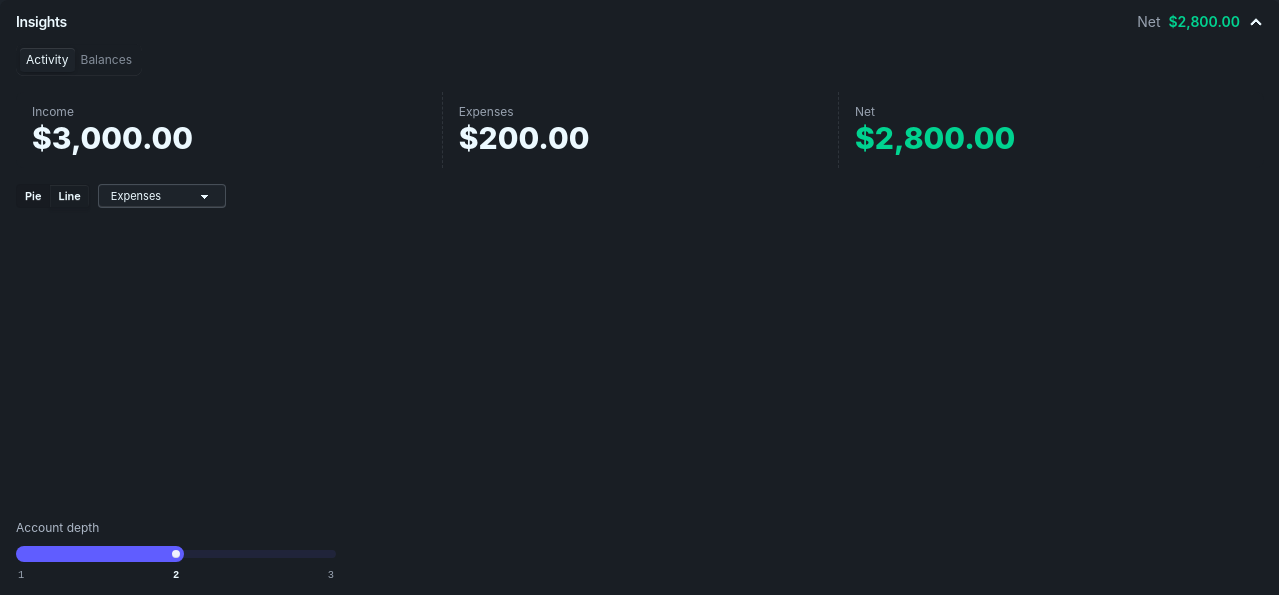
Scenario: COMPONENT InsightsPanel tabs › shows the active view's headline figure in the header, and keeps it when collapsed
This screenshot has width=1279, height=595.
Expected: the element with class "collapse-title" shows "Net", [1137, 13, 1161, 30]
Expected: the element with class "collapse-title" shows "$2,800.00", [1168, 13, 1240, 30]
Click the tab "Balances": (106, 60) [74, 48, 138, 72]
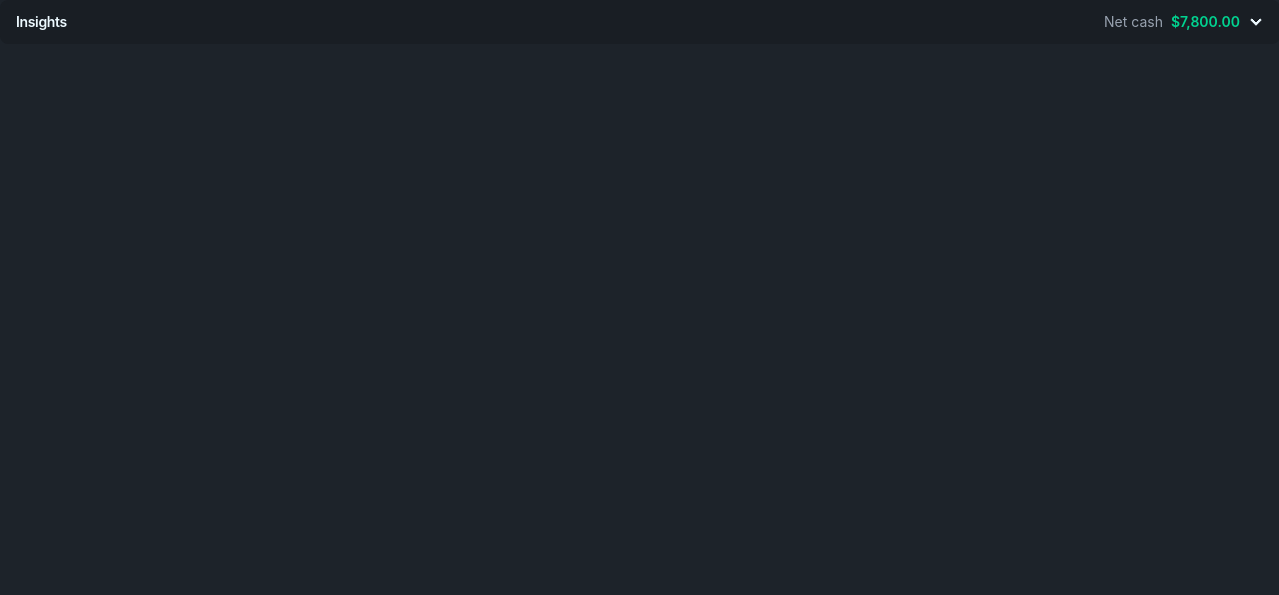
Expected: the element with class "collapse-title" shows "$7,800.00", [1171, 13, 1240, 30]
Expected: the element with class "collapse-title" shows "Net cash", [1104, 13, 1163, 30]
